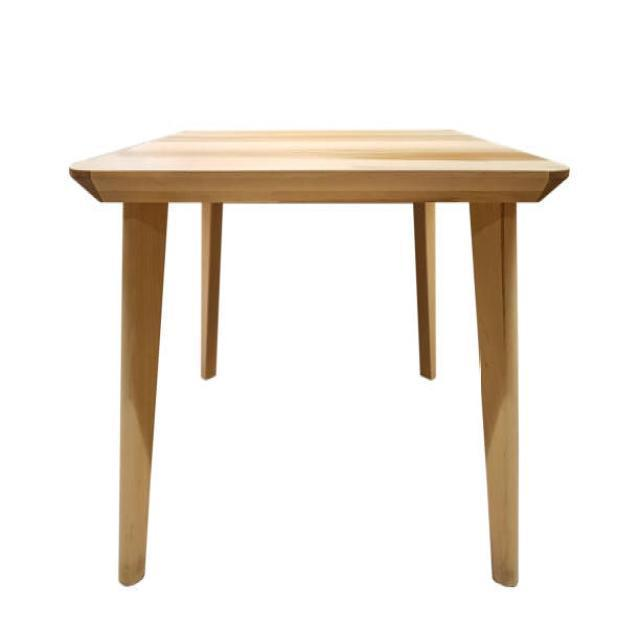table: (68, 126, 570, 588)
